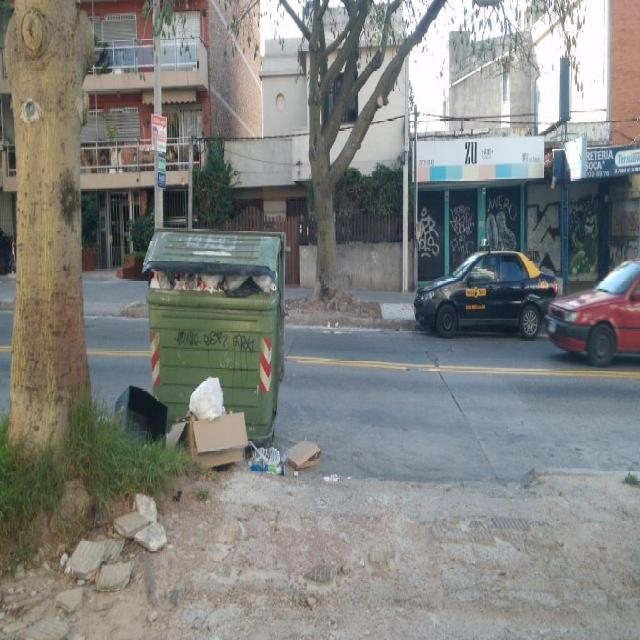garbage: (167, 378, 249, 480), (148, 266, 276, 297), (286, 433, 322, 479), (248, 441, 286, 483)
